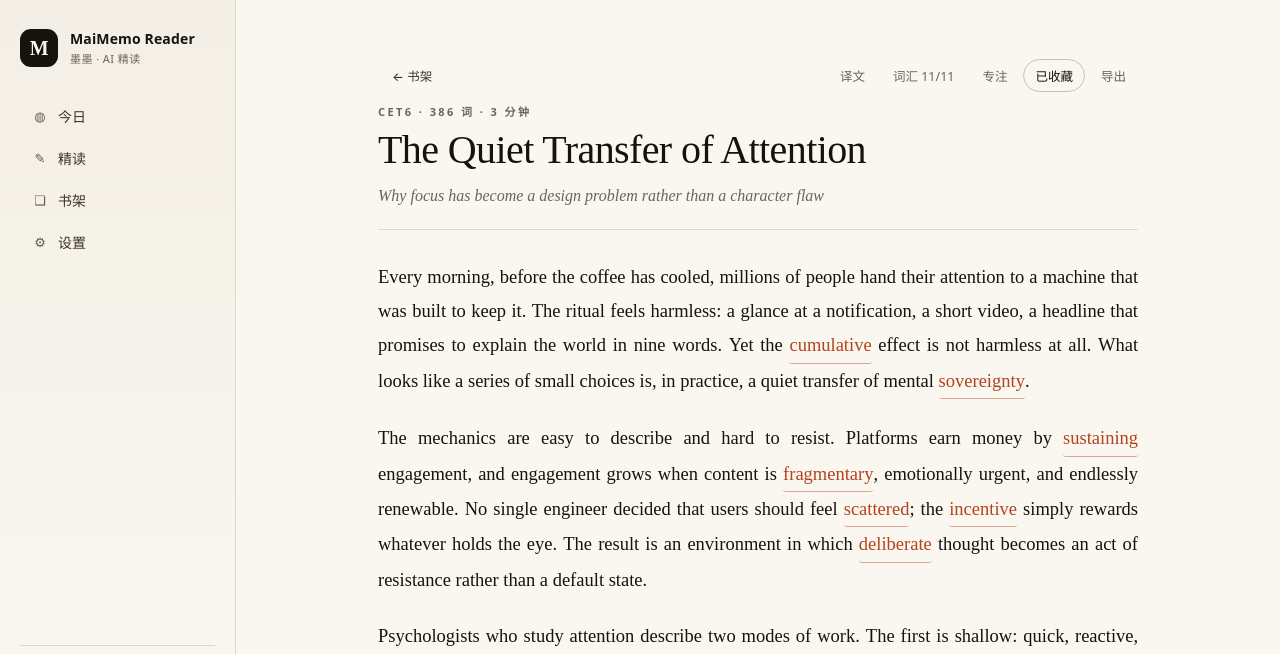
Test: 页面渲染 › 阅读器：标题、目标词高亮与点词面板
The width and height of the screenshot is (1280, 654).
Click the 1st button "cumulative".
click(830, 346)  # box [789,328,872,364]
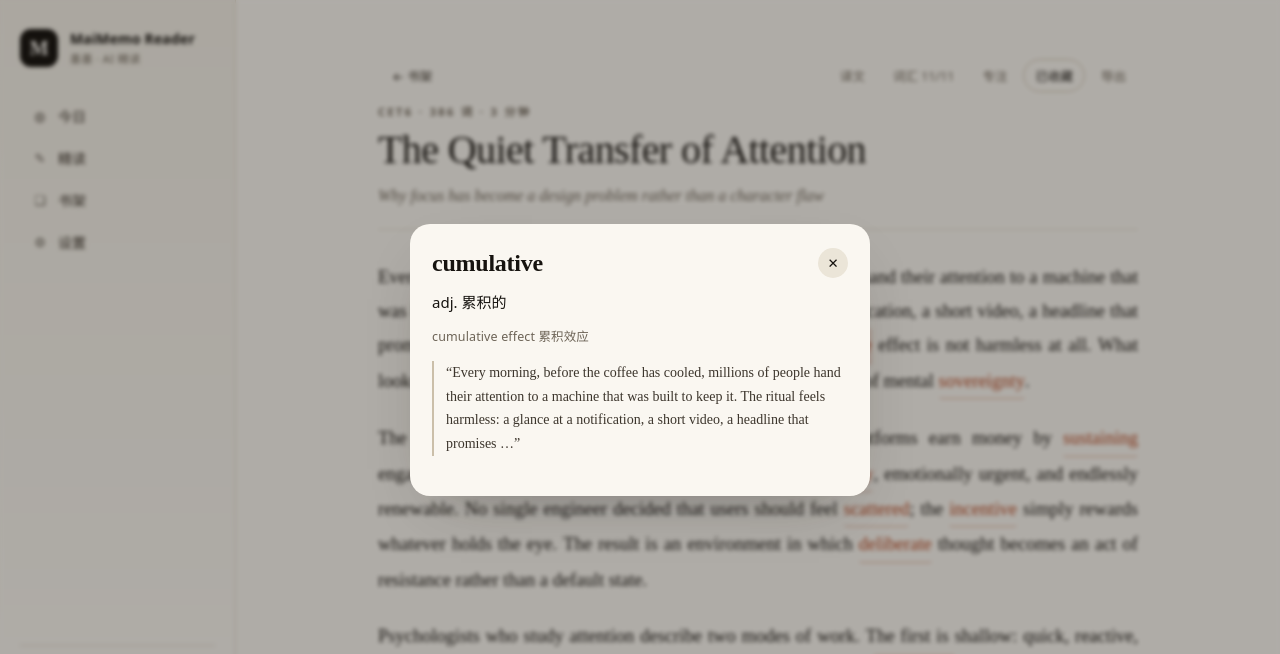
Check: the element with class "sheet" is shown, box [410,224,870,496]
Check: the text with class "sheet__meaning" reads "adj. 累积的", box [432,292,506,312]
